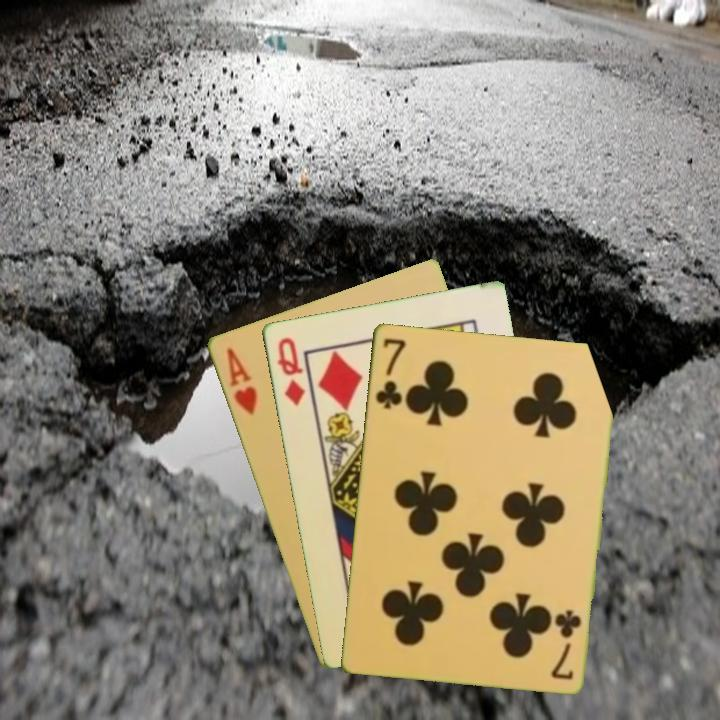7c: (371, 334, 409, 411), (549, 605, 584, 682)
Ah: (222, 344, 260, 418)
Qd: (273, 333, 308, 408)
